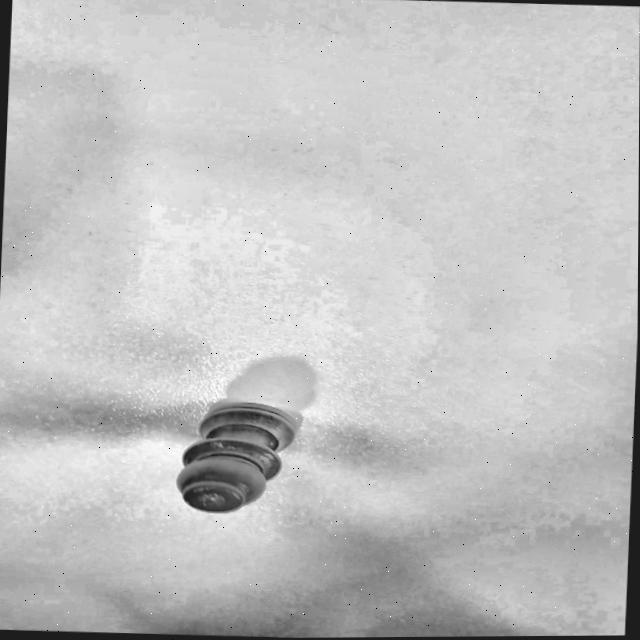black-bishop: (167, 394, 308, 522)
